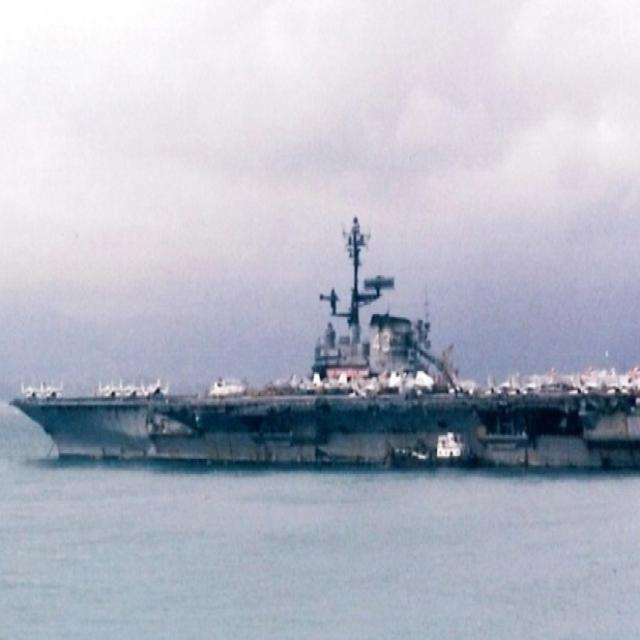Portanaves: (12, 214, 640, 474)
